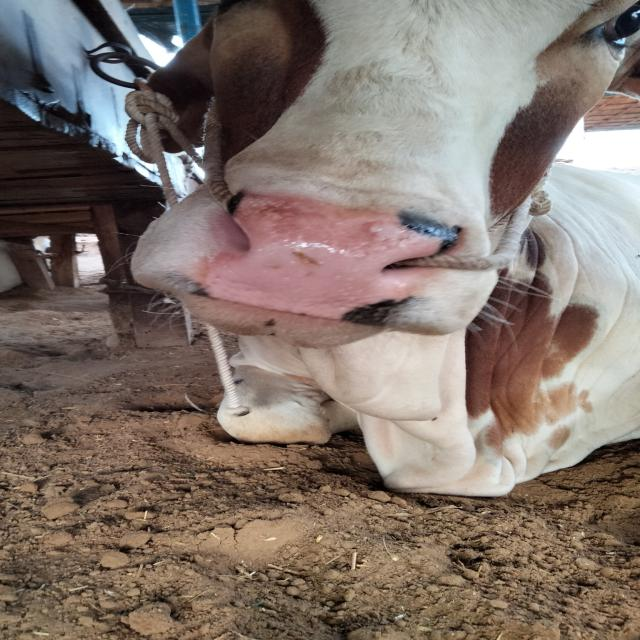muzzles: (185, 178, 486, 339)
